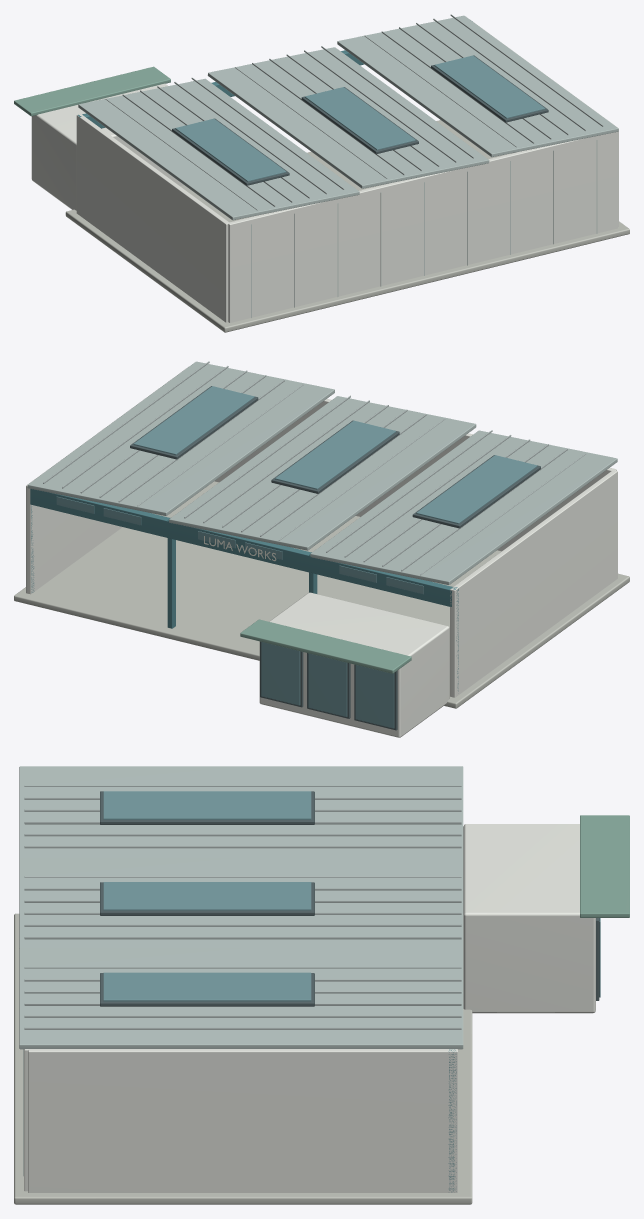
The model's file is factory.glb.
3 views of the same model, one above another, from view 1: azimuth 30°, elevation 25°; view 2: azimuth 150°, elevation 25°; view 3: azimuth 270°, elevation 25° (orthographic). The views are drawn at different scales.
Parts seen in each view (by area): view 1: rear-wall, side-wall, standing-seam-roof.001, standing-seam-roof, standing-seam-roof.002, slab, office-body, skylight, skylight.002, skylight.001, office-canopy, skylight-frame (+2 smaller); view 2: slab, side-wall, standing-seam-roof.001, standing-seam-roof, standing-seam-roof.002, office-body, front-header, side-wall.001, office-canopy, skylight.002, skylight, skylight.001 (+8 smaller); view 3: side-wall.001, standing-seam-roof.002, standing-seam-roof.001, standing-seam-roof, office-body, slab, skylight.002, skylight, skylight.001, office-canopy, skylight-frame.001, skylight-frame.002 (+20 smaller).
Part boxes in pixels (x1,y1,x2,y2): rear-wall: [228, 132, 617, 322]; side-wall: [76, 114, 229, 322]; standing-seam-roof.001: [207, 47, 489, 188]; standing-seam-roof: [78, 78, 359, 220]; standing-seam-roof.002: [337, 15, 618, 157]; slab: [65, 120, 629, 332]; office-body: [31, 83, 183, 210]; skylight: [175, 118, 286, 181]; skylight.002: [434, 55, 545, 118]; skylight.001: [305, 87, 415, 150]; office-canopy: [14, 66, 170, 116]; skylight-frame: [172, 118, 289, 185]; slab: [14, 481, 629, 708]; side-wall: [450, 470, 617, 697]; standing-seam-roof.001: [169, 396, 476, 550]; standing-seam-roof: [310, 430, 617, 584]; standing-seam-roof.002: [27, 361, 334, 515]; office-body: [259, 592, 449, 737]; front-header: [30, 489, 452, 606]; side-wall.001: [26, 368, 186, 594]; office-canopy: [240, 619, 411, 673]; skylight.002: [133, 386, 254, 455]; skylight: [416, 455, 537, 524]; skylight.001: [275, 420, 395, 489]; side-wall.001: [28, 1049, 457, 1192]; standing-seam-roof.002: [19, 948, 463, 1049]; standing-seam-roof.001: [19, 857, 463, 947]; standing-seam-roof: [19, 766, 463, 857]; office-body: [463, 824, 595, 1013]; slab: [14, 913, 472, 1204]; skylight.002: [103, 972, 311, 1001]; skylight: [103, 791, 311, 819]; skylight.001: [103, 882, 311, 910]; office-canopy: [580, 815, 629, 917]; skylight-frame.001: [100, 882, 314, 915]; skylight-frame.002: [100, 973, 314, 1006].
Size of the model in its own units: 18.8 by 5.16 by 17.2.
